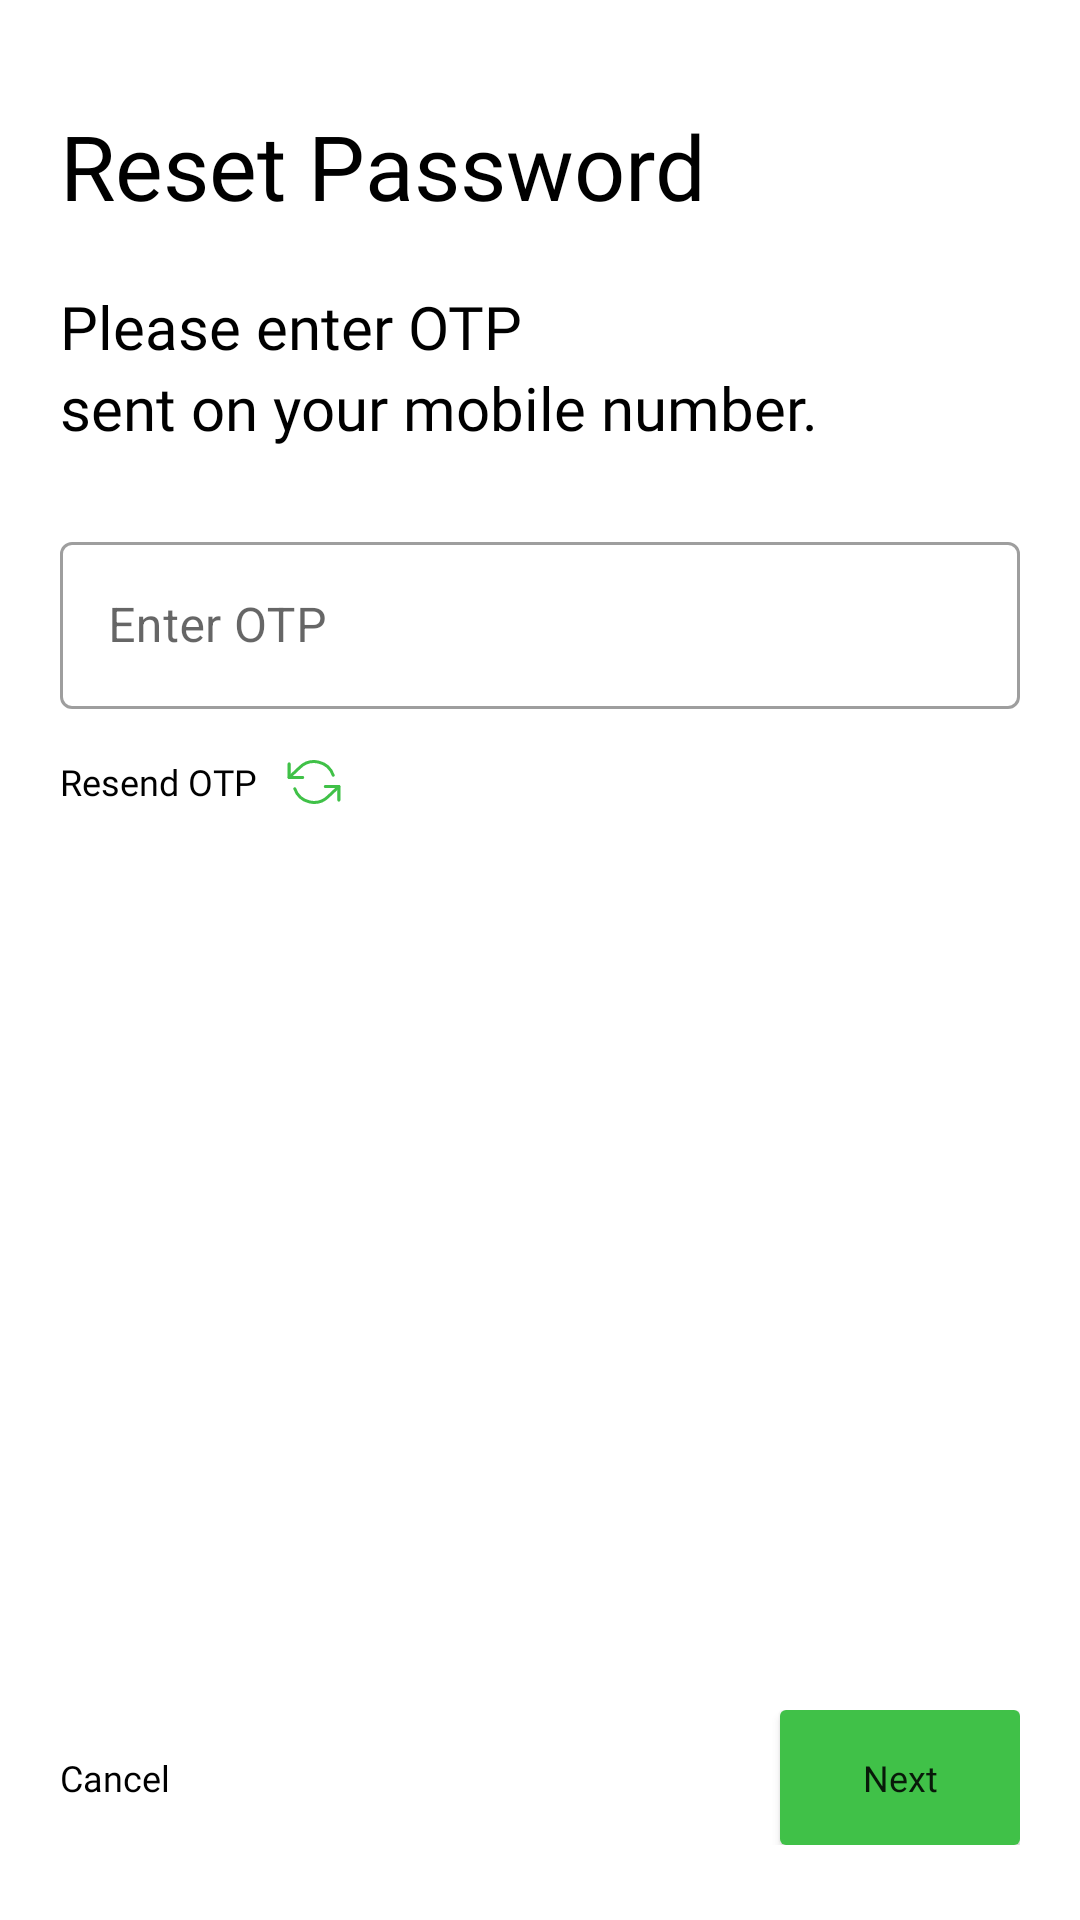

Point at icon controls on the screen. Image size 1080×1920, points as (x,y).
refresh ccw: (314,782)
